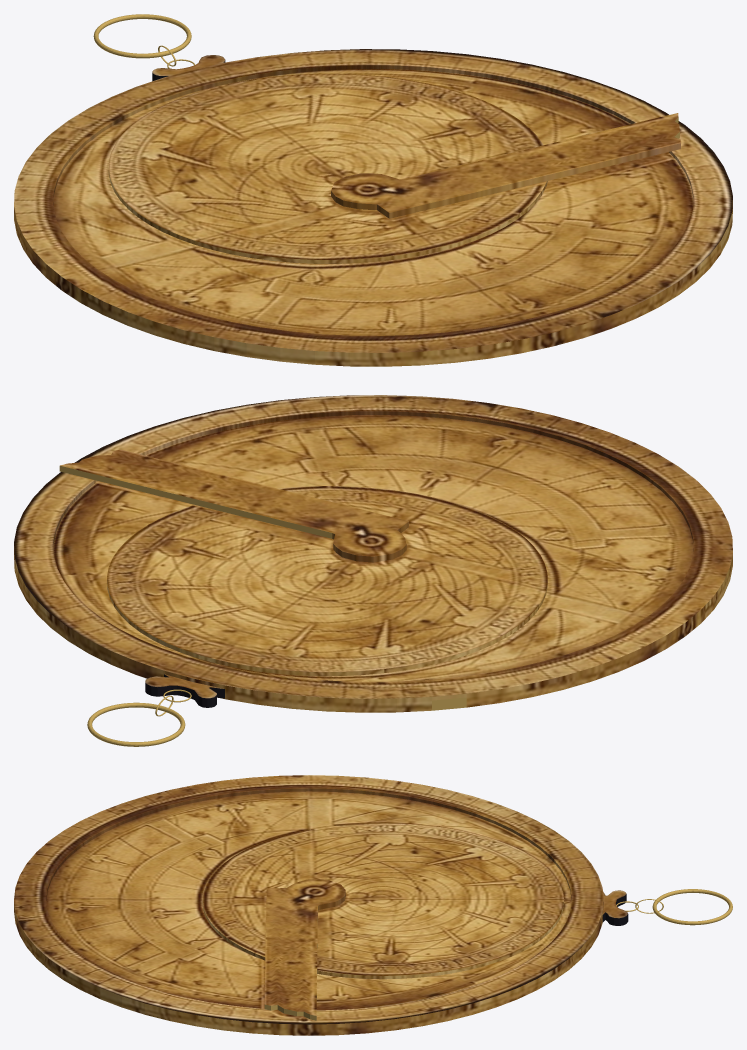
File: astrolabio.glb
The picture shows the model from 3 angles, top to bottom: view 1: azimuth 30°, elevation 25°; view 2: azimuth 150°, elevation 25°; view 3: azimuth 270°, elevation 25°; orthographic projection. The views are drawn at different scales.
Parts seen in each view (by area): view 1: astrolabio; view 2: astrolabio; view 3: astrolabio.
Boxes of the visible parts, x1=… form: astrolabio: x1=14, y1=14, x2=732, y2=366; astrolabio: x1=14, y1=395, x2=732, y2=746; astrolabio: x1=14, y1=775, x2=732, y2=1035.
Bounding box in the file's own units: 3.87 × 0.1486 × 4.71.
6 materials, 5 textured.
